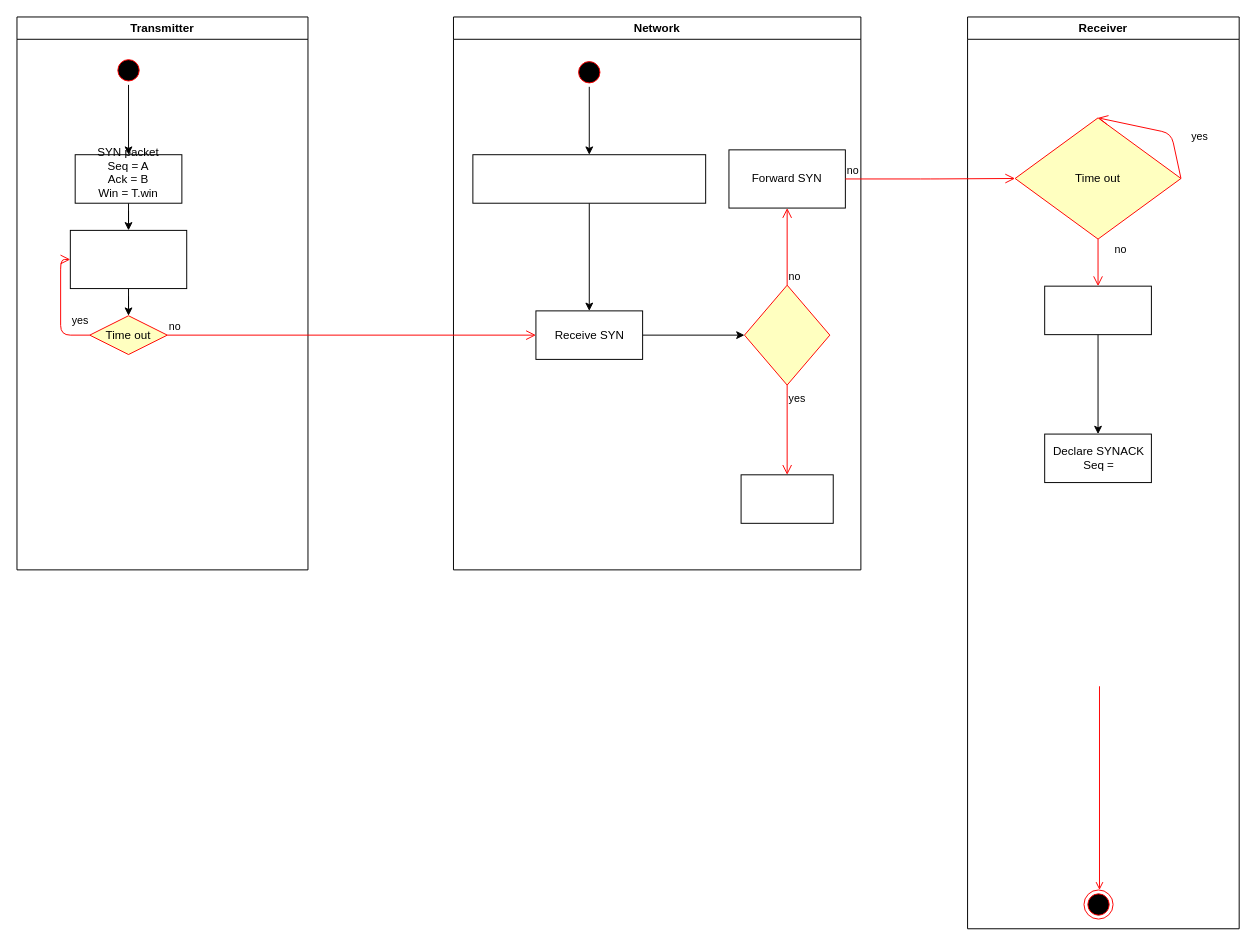
Image size: 1256x946. Some labels were removed from this diagram. The centre of each missing label's shape, as x and y in pixels:
"Discard SYN" goes at point 786,498.
"Get Noise Value, Delay Value" goes at point 589,178.
"Get SYN" goes at point 1097,310.
"Noise > RandNum" goes at point 787,334.
"Sent SYN Start Timer" goes at point 128,259.
